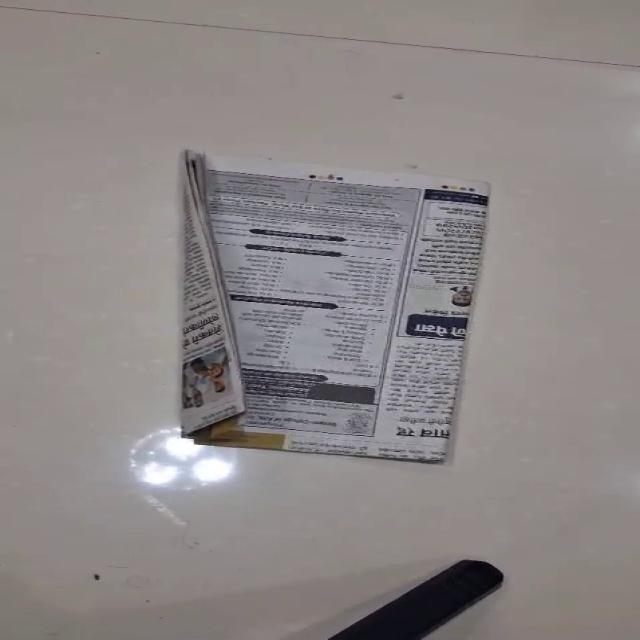paper: (178, 149, 491, 464)
